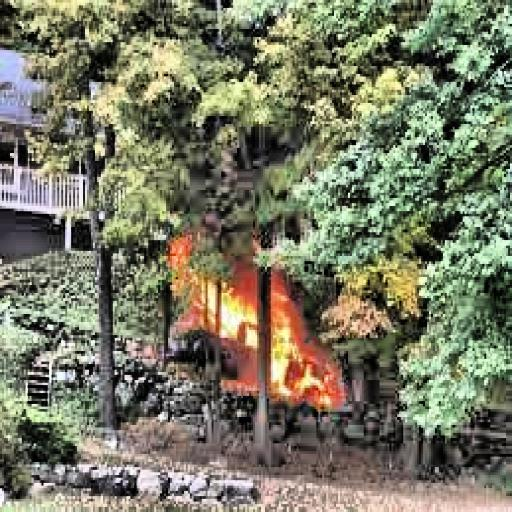fire: (162, 230, 348, 420)
